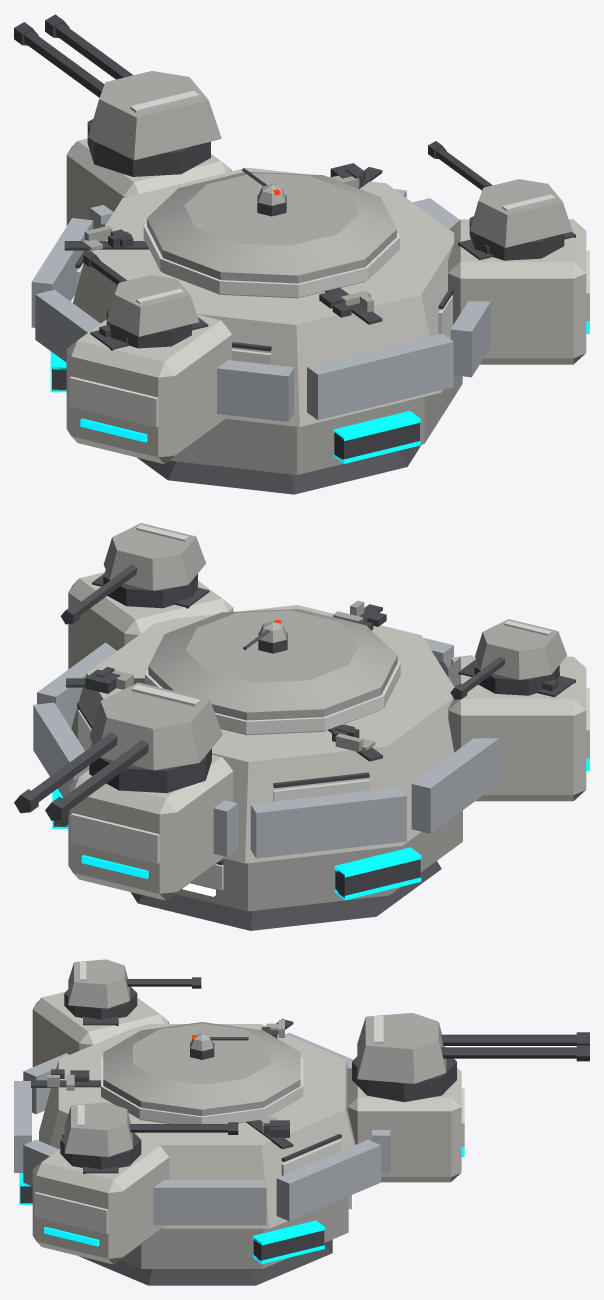
File: platform_medium.glb
3 renders of one model, top to bottom at view 1: azimuth 30°, elevation 25°; view 2: azimuth 150°, elevation 25°; view 3: azimuth 270°, elevation 25°, orthographic. The views are drawn at different scales.
Parts seen in each view (by area): view 1: platform_medium, Turret_0, Turret_2, Turret_1, Turret_pd0; view 2: platform_medium, Turret_0, Turret_2, Turret_1, Turret_pd0; view 3: platform_medium, Turret_0, Turret_2, Turret_1, Turret_pd0.
Boxes of the visible parts, x1,y1,x2,y2 form: platform_medium: (31,138,589,494); Turret_0: (14,14,221,176); Turret_2: (428,141,572,260); Turret_1: (83,251,199,348); Turret_pd0: (242,168,286,216); platform_medium: (33,572,589,930); Turret_0: (14,682,222,820); Turret_2: (60,523,206,624); Turret_1: (450,619,567,699); Turret_pd0: (243,619,287,653); platform_medium: (14,991,464,1285); Turret_0: (352,1013,589,1101); Turret_2: (60,1102,238,1169); Turret_1: (64,959,201,1019); Turret_pd0: (190,1033,248,1059).
Size of the model in its own units: 1.47 by 0.6585 by 1.71.
